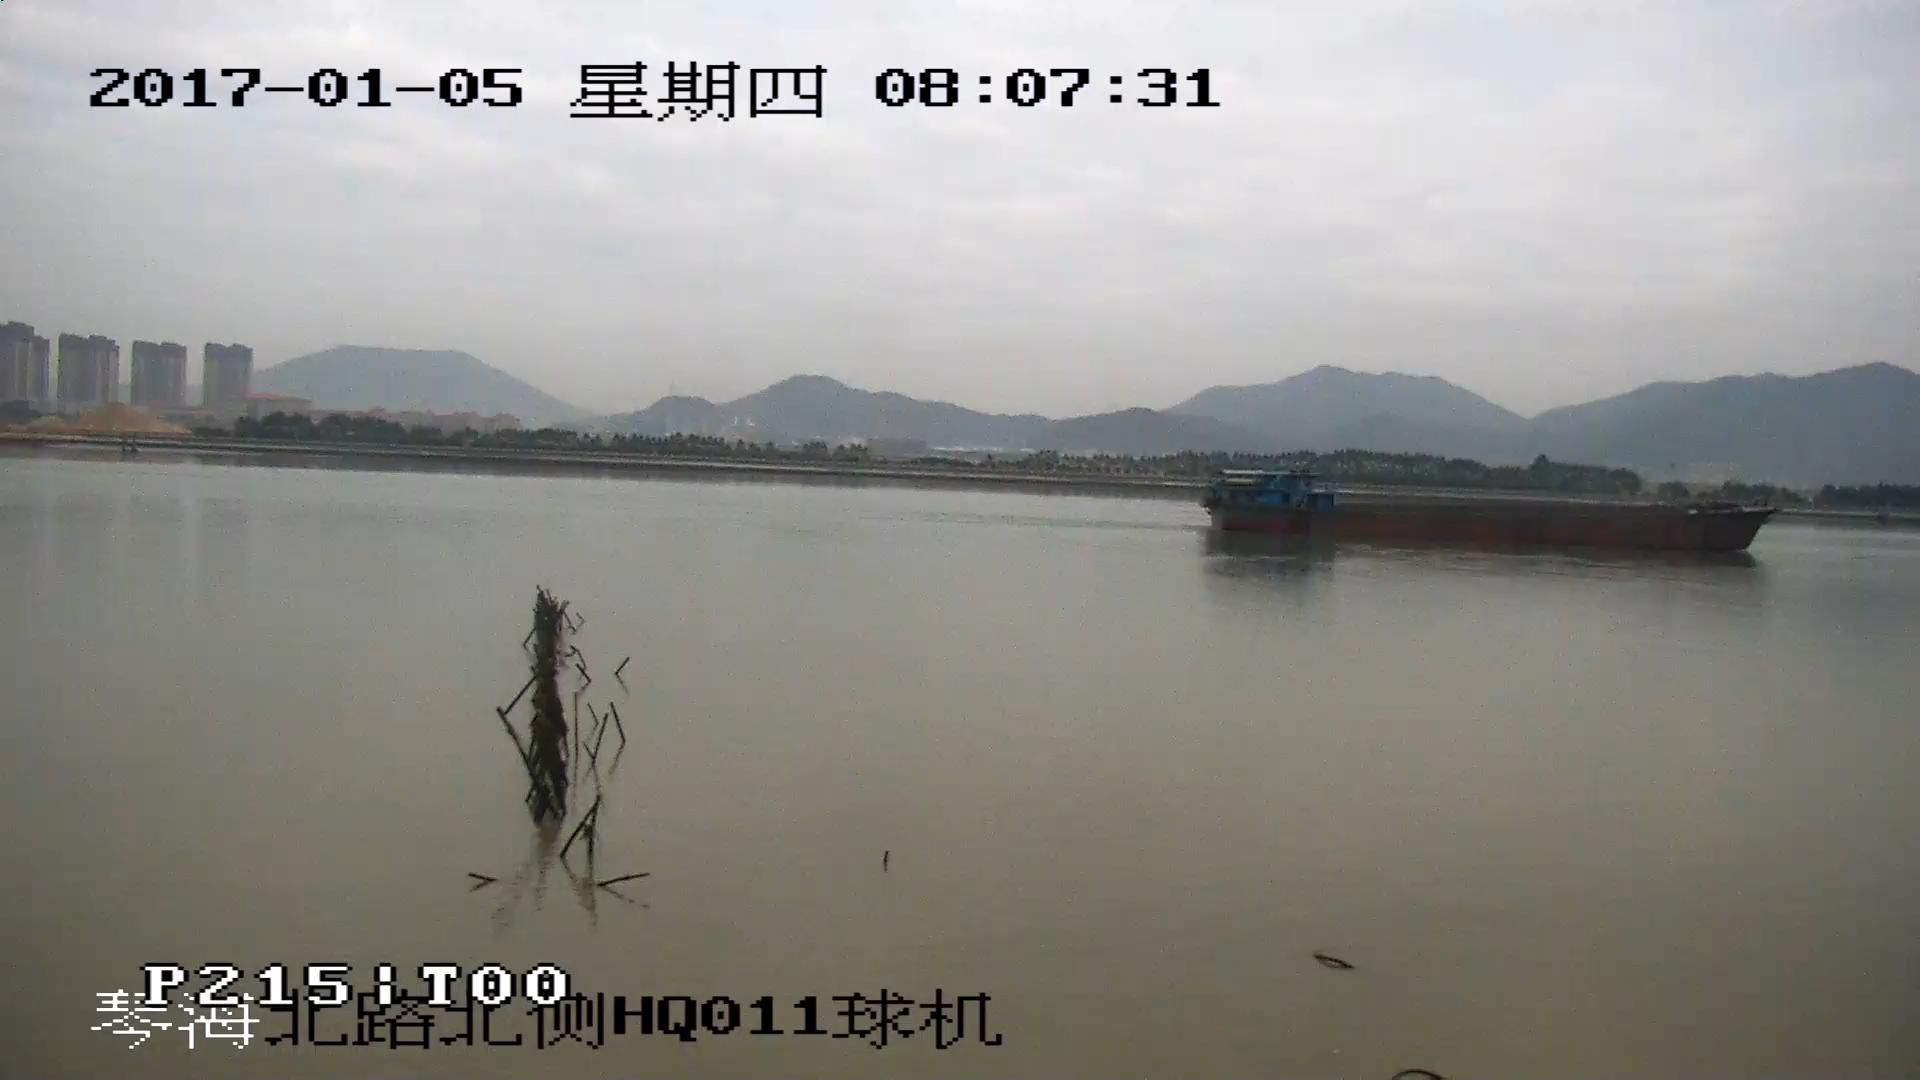bulk cargo carrier: (1194, 467, 1775, 554)
